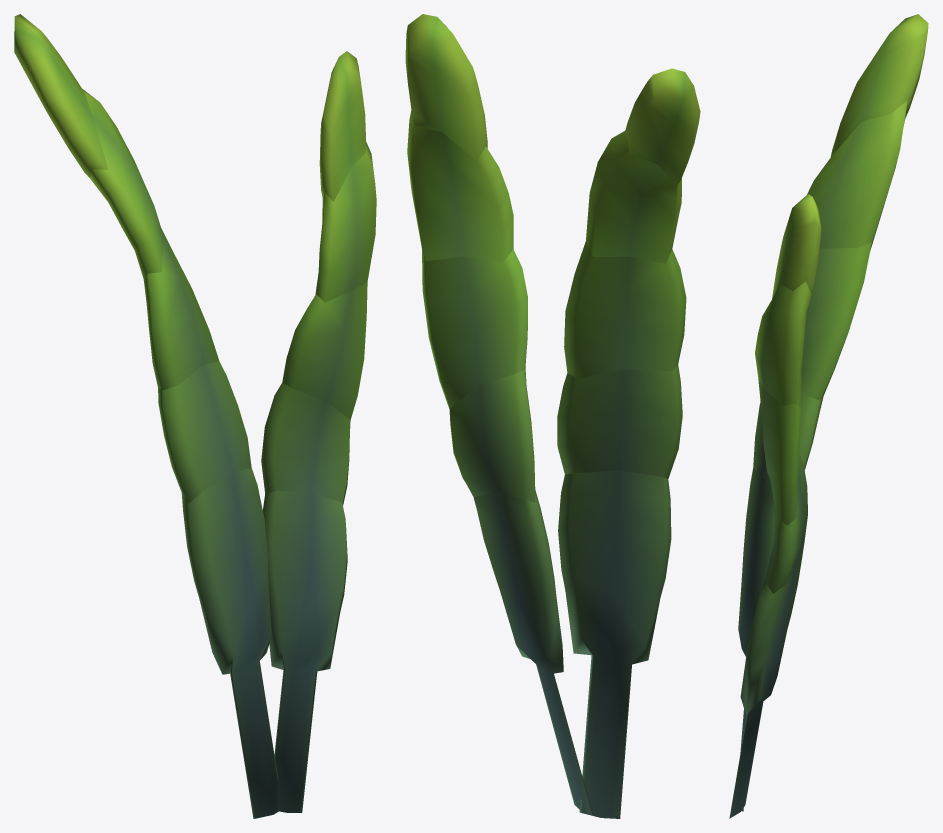
Rendered from Moss_02.fbx.
3 renders of one model, left to right at view 1: azimuth 30°, elevation 25°; view 2: azimuth 150°, elevation 25°; view 3: azimuth 270°, elevation 25°, orthographic. The views are drawn at different scales.
Visible parts, largest first — view 1: Moss_02; view 2: Moss_02; view 3: Moss_02.
Part boxes in pixels (x1,y1,x2,y2): Moss_02: (14,14,376,818); Moss_02: (405,14,700,818); Moss_02: (729,14,928,818).
Size of the model in its own units: 112 by 271 by 68.01.
